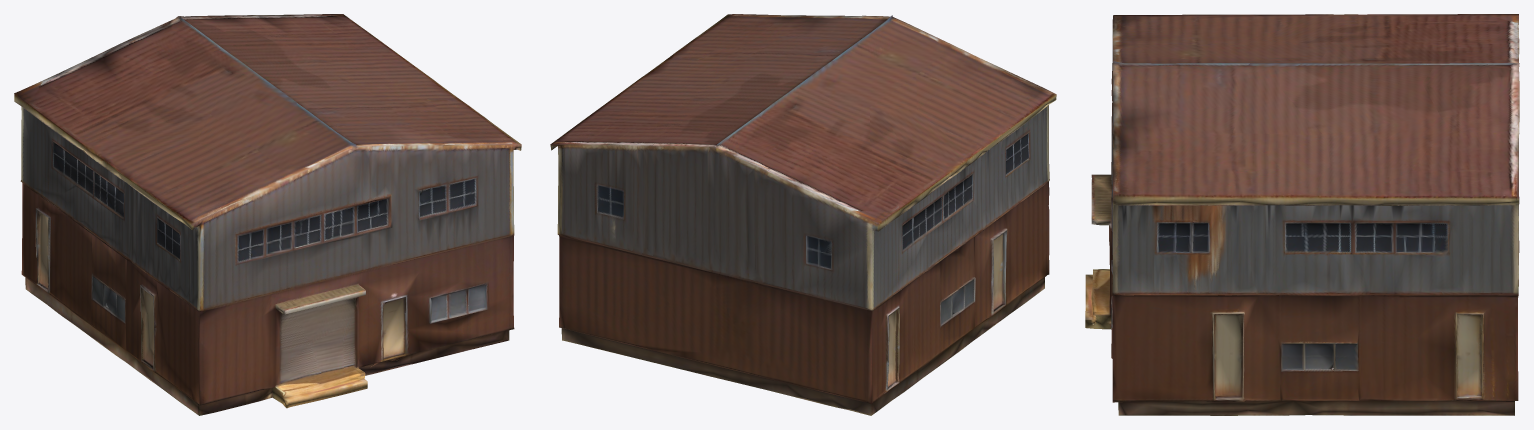
Rendered from metal_building_02.glb.
The picture shows the model from 3 angles, left to right: view 1: azimuth 30°, elevation 25°; view 2: azimuth 150°, elevation 25°; view 3: azimuth 270°, elevation 25°; orthographic projection. The views are drawn at different scales.
Size of the model in its own units: 2 by 1.37 by 2.
1 material, 1 textured.
